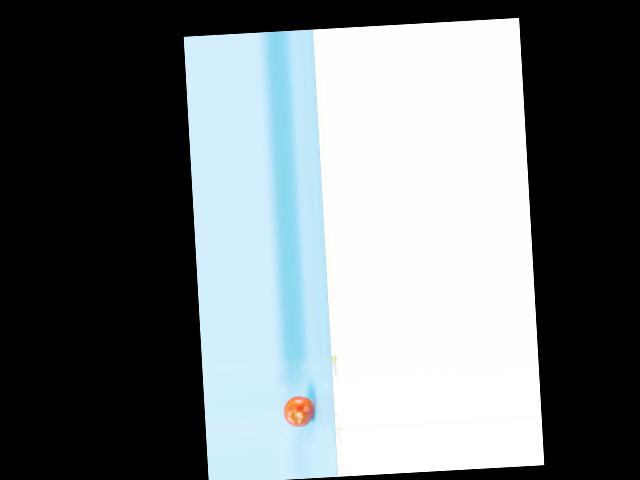tomato: (283, 395, 314, 428)
